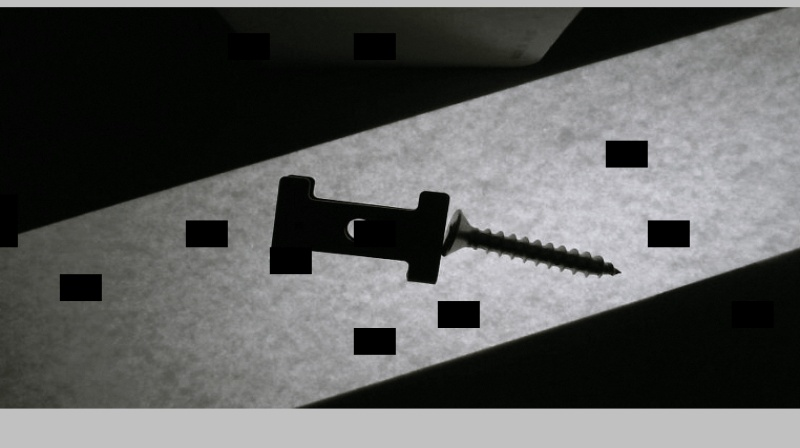O002: (266, 173, 450, 288)
S001: (438, 208, 624, 280)
